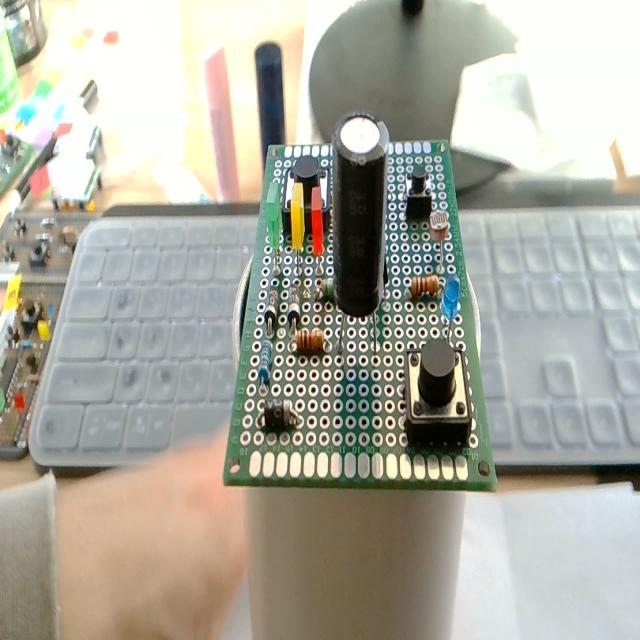Electrolytic capacitor: (325, 104, 391, 366)
cds: (429, 200, 448, 267)
diode: (255, 396, 301, 436), (264, 272, 278, 340), (286, 276, 300, 332)
led: (287, 178, 309, 269), (262, 175, 284, 263), (309, 182, 329, 274), (440, 266, 466, 336)
resistor: (287, 319, 330, 360), (408, 268, 444, 302), (256, 334, 276, 393)
switch: (401, 338, 473, 452), (403, 168, 434, 232)
